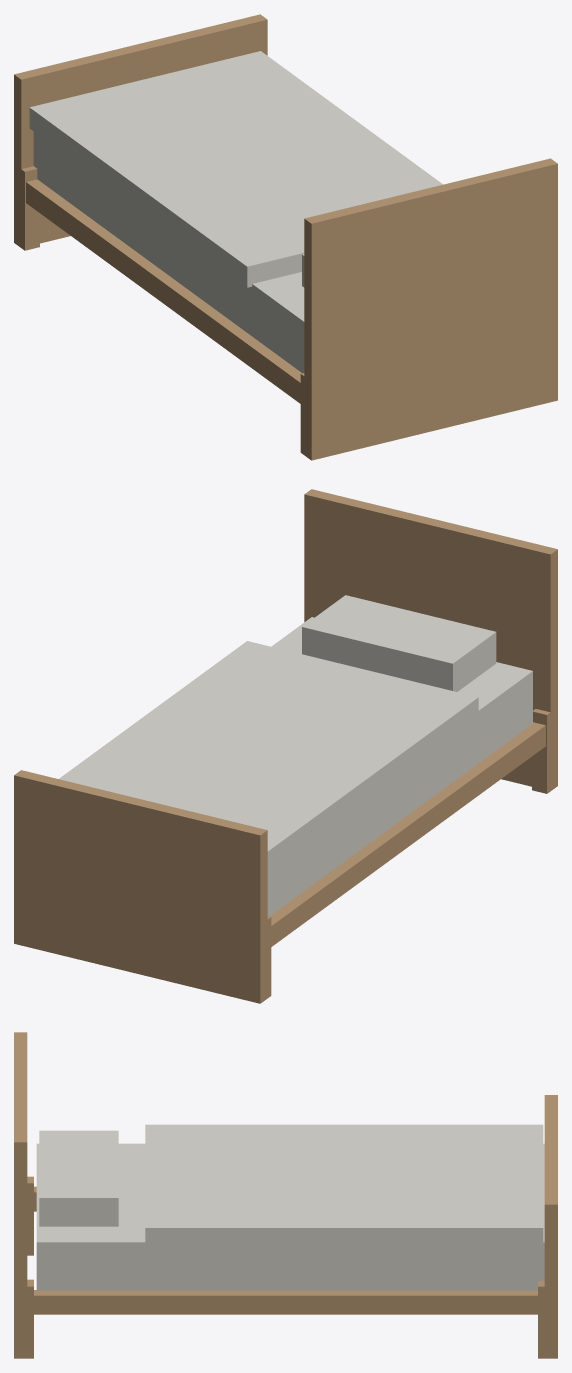
Rendered from bed.glb.
The picture shows the model from 3 angles, top to bottom: view 1: azimuth 30°, elevation 25°; view 2: azimuth 150°, elevation 25°; view 3: azimuth 270°, elevation 25°; orthographic projection. The views are drawn at different scales.
Visible parts, largest first — view 1: bed, bedding; view 2: bed, bedding; view 3: bedding, bed.
Part boxes in pixels (x1,y1,x2,y2): bed: (14, 14, 557, 460); bedding: (29, 51, 442, 373); bed: (14, 489, 557, 1003); bedding: (59, 595, 532, 916); bedding: (36, 1124, 544, 1290); bed: (14, 1032, 557, 1358).
Size of the model in its own units: 0.98 by 0.9 by 2.05.
